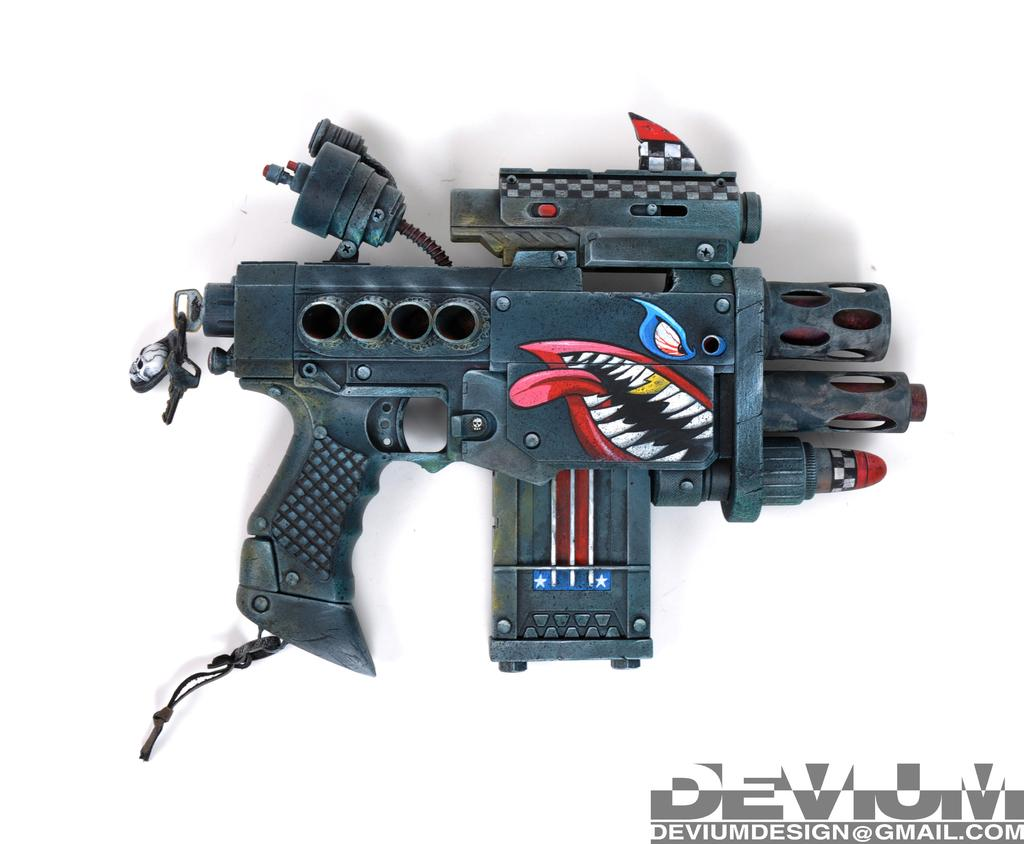Handgun: (127, 110, 927, 763)
